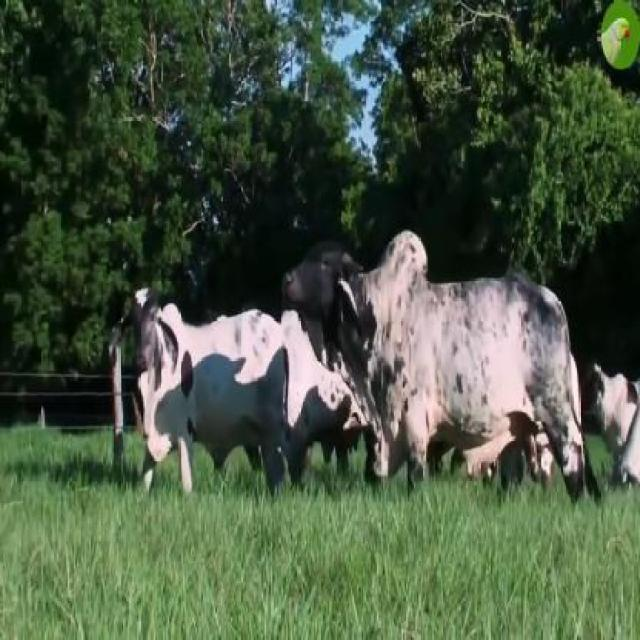Cow: (282, 231, 589, 506)
